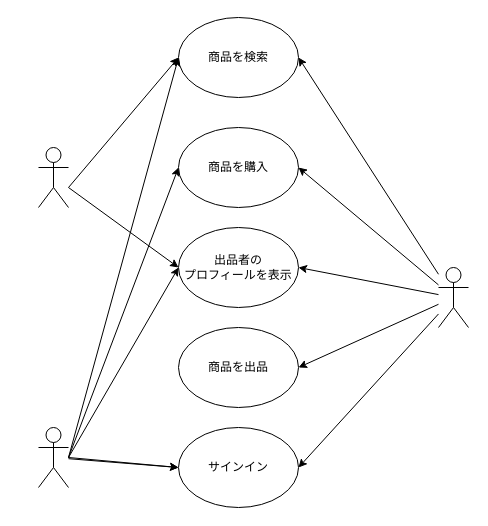
This 488x526 diagram has some shape labels left out. Here are the shapes that lost their labels. From the top down, the centre of each, then its label:
At (x=53, y=177): "匿名ユーザー".
At (x=453, y=297): "出品者".
At (x=53, y=457): "購入者".
